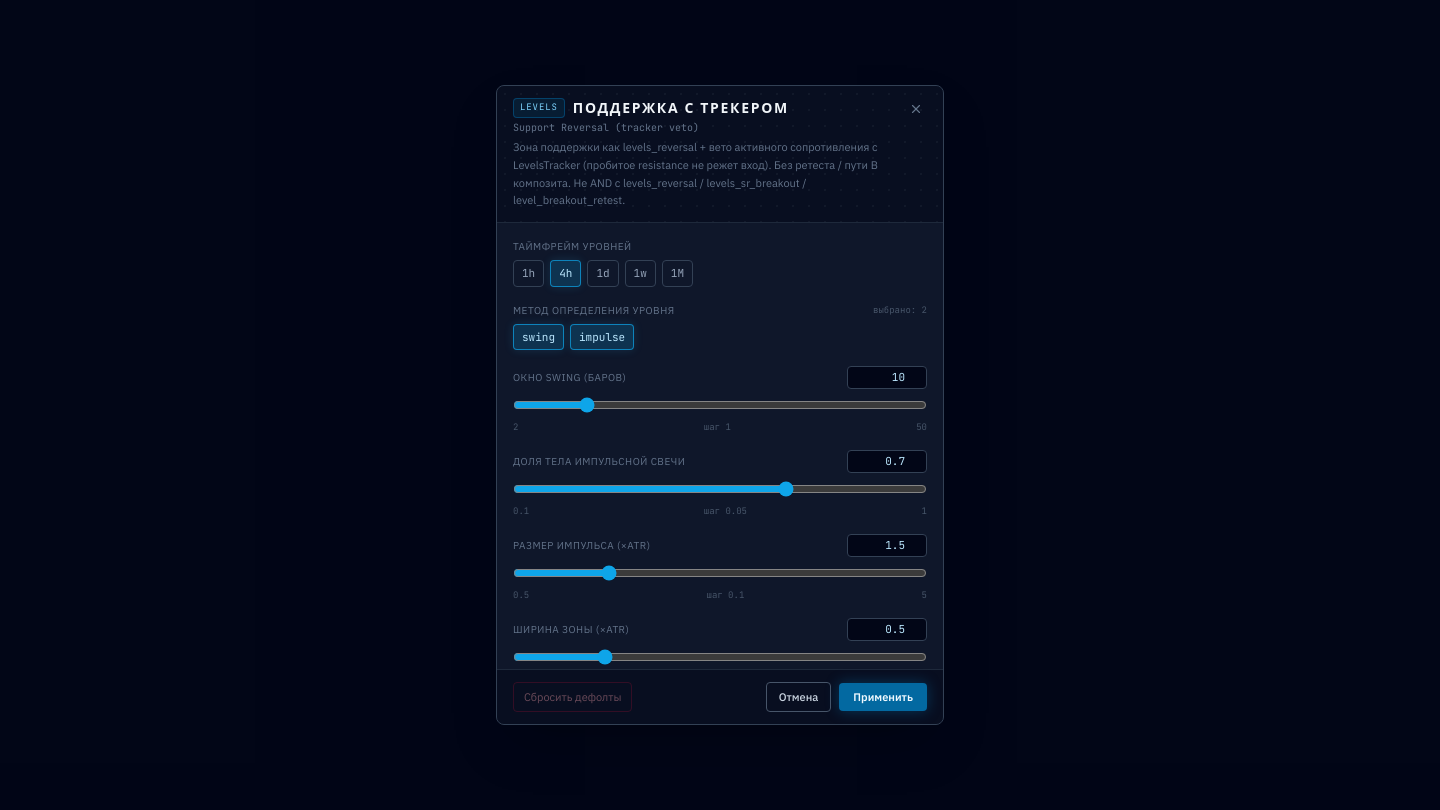
PatternSettingsModal · levels_sr_support › shows a validation error and blocks Apply for swing_window above max
Replace the text in the number field labelled "Окно swing (баров)" with "51" at x=887, y=378, box [847,366,927,389]
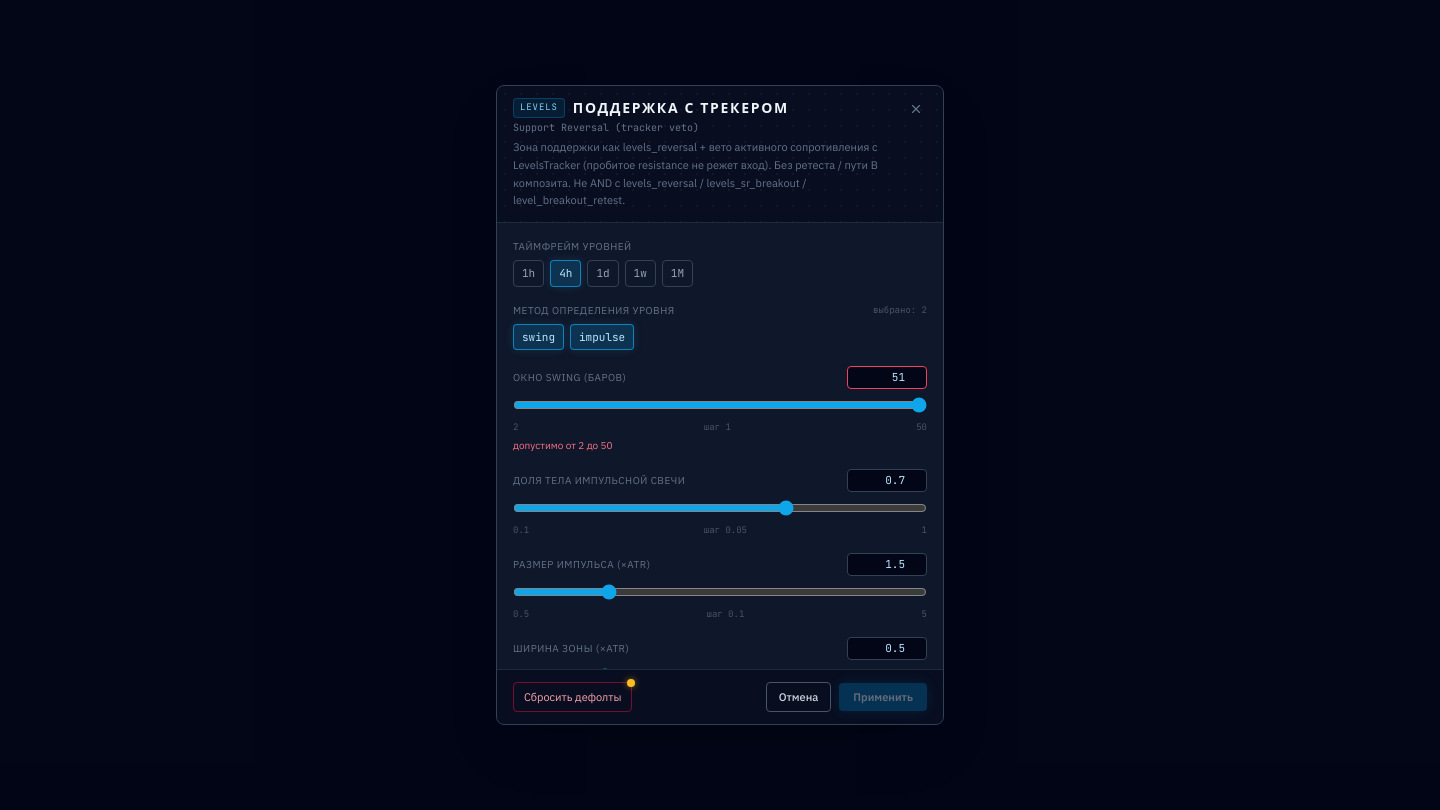
Now the message reads "допустимо от 2 до 50", box [513,439,613,452]
Now the button "Применить" is disabled, box [839,683,927,711]
